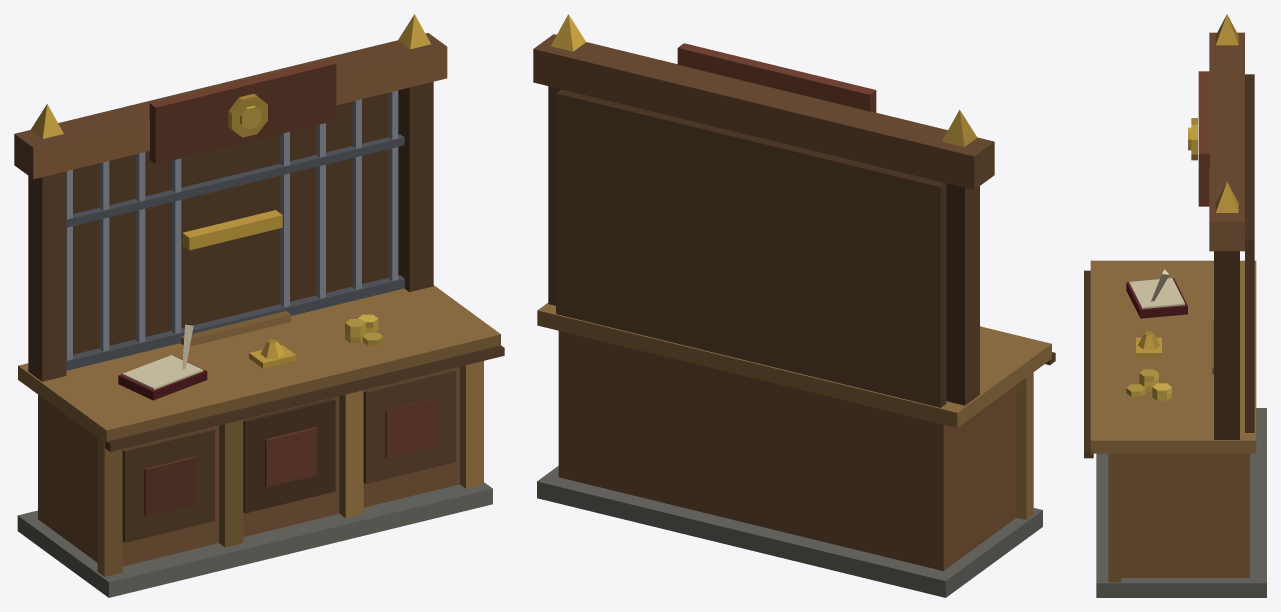
File: bank_booth.glb
3 renders of one model, left to right at view 1: azimuth 30°, elevation 25°; view 2: azimuth 150°, elevation 25°; view 3: azimuth 270°, elevation 25°, orthographic. The views are drawn at different scales.
Visible parts, largest first — view 1: bank_booth; view 2: bank_booth; view 3: bank_booth.
Boxes of the visible parts, x1=… form: bank_booth: x1=14, y1=14, x2=504, y2=597; bank_booth: x1=533, y1=14, x2=1055, y2=597; bank_booth: x1=1084, y1=14, x2=1266, y2=597.
Bounding box in the file's own units: 2.75 × 2.8 × 1.12.
